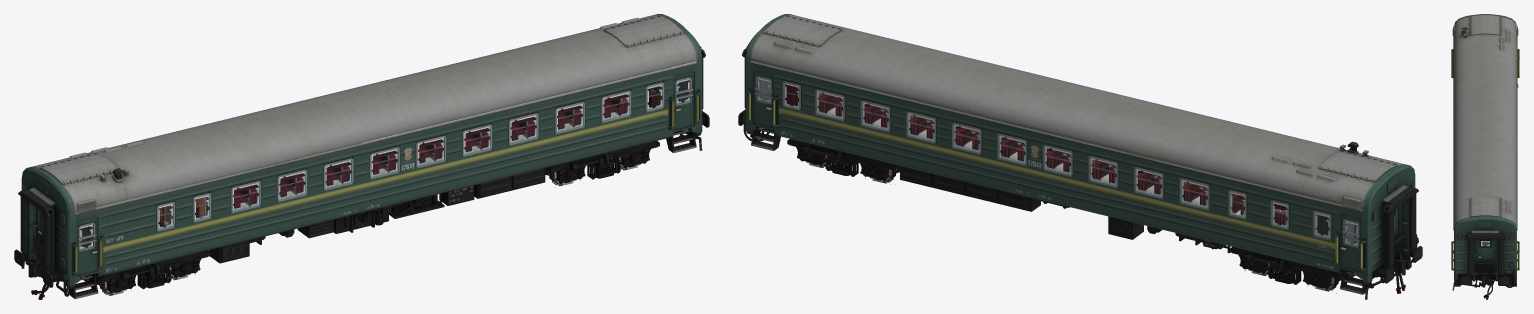
Rendered from mvp_ir_amendorf.obj.
3 renders of one model, left to right at view 1: azimuth 30°, elevation 25°; view 2: azimuth 150°, elevation 25°; view 3: azimuth 270°, elevation 25°, orthographic. The views are drawn at different scales.
Visible parts, largest first — view 1: FRAME_mvp_amendorf, INTERIOR_1_LCG_IL_mvp_amendorf, BOGEY_FRONT_mvp_amendorf, BOGEY_REAR_mvp_amendorf, DOOR_4_TOGGLE_EXTERNAL_CG_Door4_mvp_amendorf, DOOR_1_TOGGLE_EXTERNAL_CG_Door1_mvp_amendorf; view 2: FRAME_mvp_amendorf, INTERIOR_1_LCG_IL_mvp_amendorf, BOGEY_FRONT_mvp_amendorf, BOGEY_REAR_mvp_amendorf, DOOR_2_TOGGLE_EXTERNAL_CG_Door2_mvp_amendorf, DOOR_3_TOGGLE_EXTERNAL_CG_Door3_mvp_amendorf; view 3: FRAME_mvp_amendorf, DOOR_6_TOGGLE_CONNECTING_CG_Trap2_mvp_amendorf, TRAPDOOR_6_mvp_amendorf.
Part boxes in pixels (bbox=[...]): FRAME_mvp_amendorf: bbox=[14, 14, 709, 299]; INTERIOR_1_LCG_IL_mvp_amendorf: bbox=[77, 80, 694, 276]; BOGEY_FRONT_mvp_amendorf: bbox=[83, 250, 210, 293]; BOGEY_REAR_mvp_amendorf: bbox=[545, 141, 659, 183]; DOOR_4_TOGGLE_EXTERNAL_CG_Door4_mvp_amendorf: bbox=[673, 70, 694, 130]; DOOR_1_TOGGLE_EXTERNAL_CG_Door1_mvp_amendorf: bbox=[76, 216, 97, 275]; FRAME_mvp_amendorf: bbox=[738, 14, 1422, 294]; INTERIOR_1_LCG_IL_mvp_amendorf: bbox=[753, 79, 1360, 271]; BOGEY_FRONT_mvp_amendorf: bbox=[1229, 247, 1354, 289]; BOGEY_REAR_mvp_amendorf: bbox=[787, 139, 899, 181]; DOOR_2_TOGGLE_EXTERNAL_CG_Door2_mvp_amendorf: bbox=[1340, 213, 1361, 271]; DOOR_3_TOGGLE_EXTERNAL_CG_Door3_mvp_amendorf: bbox=[753, 70, 773, 128]; FRAME_mvp_amendorf: bbox=[1451, 14, 1519, 287]; DOOR_6_TOGGLE_CONNECTING_CG_Trap2_mvp_amendorf: bbox=[1476, 239, 1494, 265]; TRAPDOOR_6_mvp_amendorf: bbox=[1475, 262, 1495, 272].
Size of the model in its own units: 25.12 by 4.67 by 3.38.
